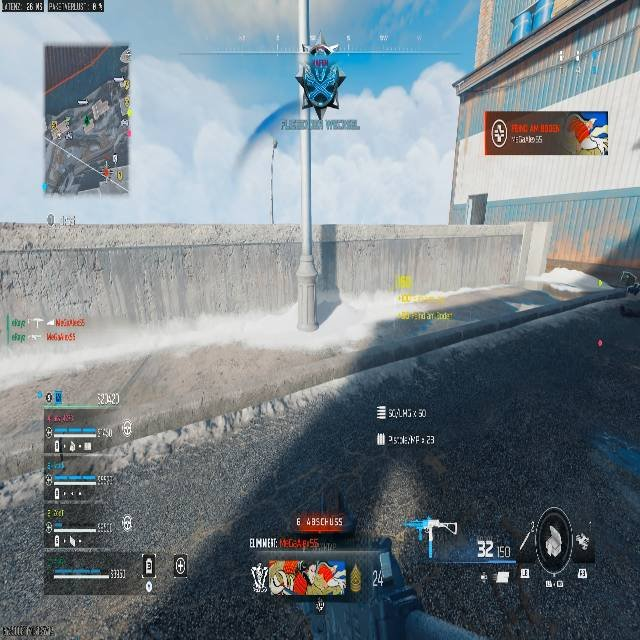head: (308, 45, 331, 70)
player: (294, 45, 346, 119)
